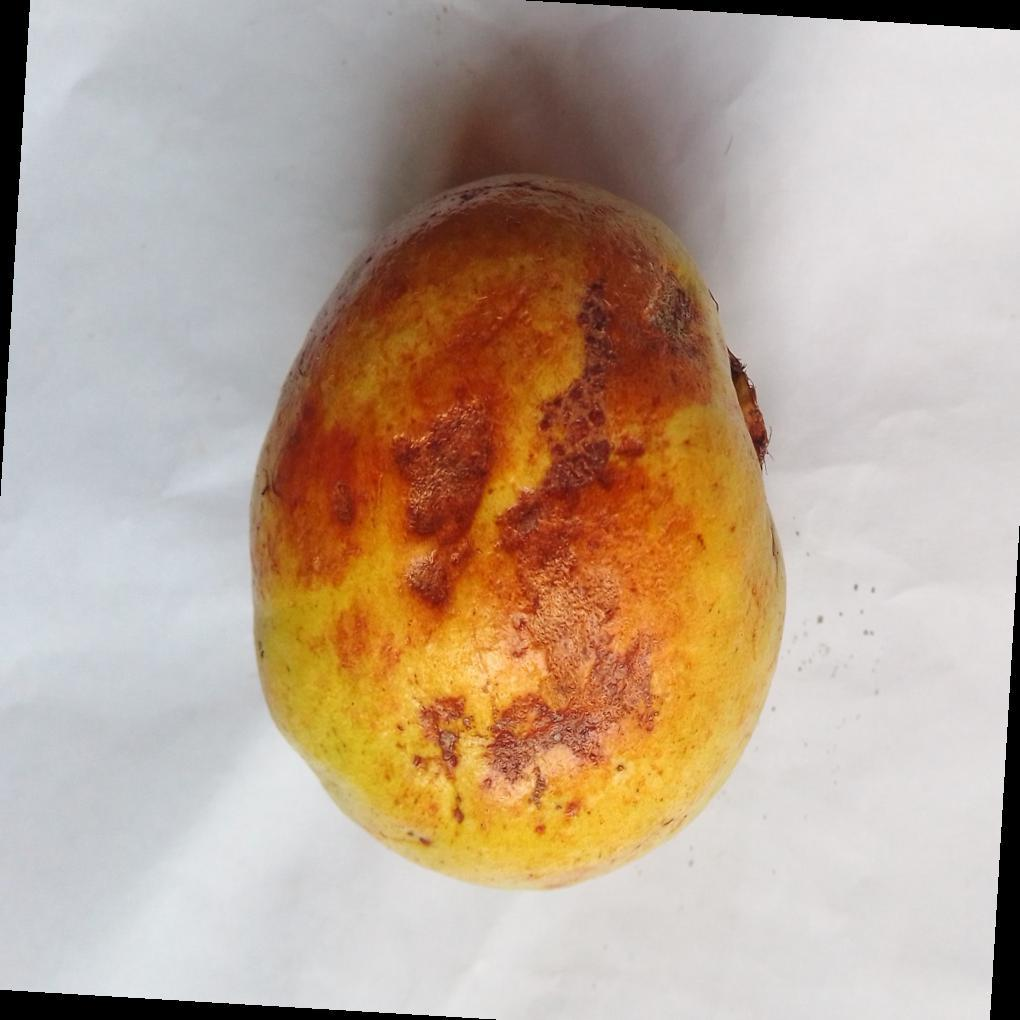FreshOrange: (248, 174, 786, 896)
